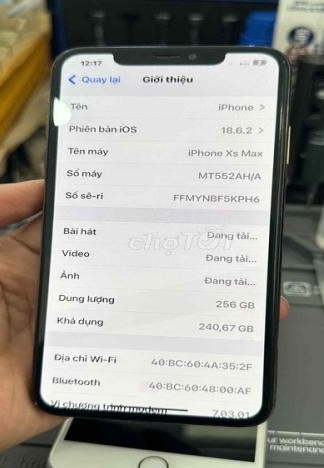scratch: (25, 394, 46, 416)
